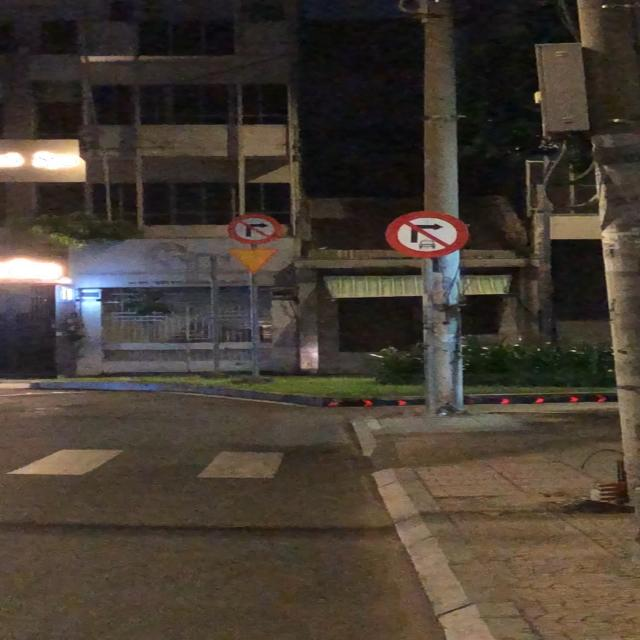Bien bao cam re phai: (227, 213, 282, 246)
Bien bao cam xe o to re phai: (380, 210, 475, 259)
Bien bao giao nhau voi duong uu tien: (224, 247, 282, 275)
